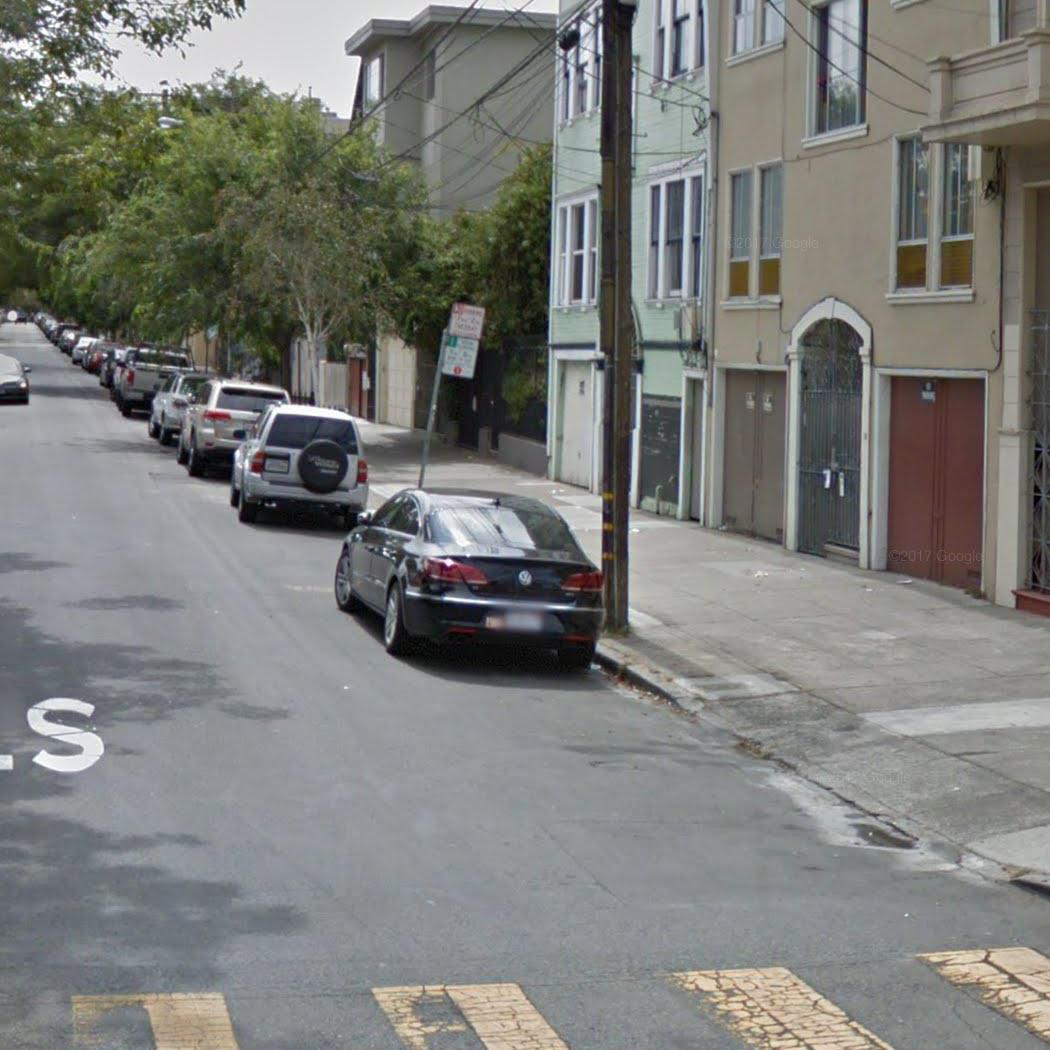1 Hour Parking: (438, 335, 480, 379)
No Parking: (446, 302, 485, 343)
